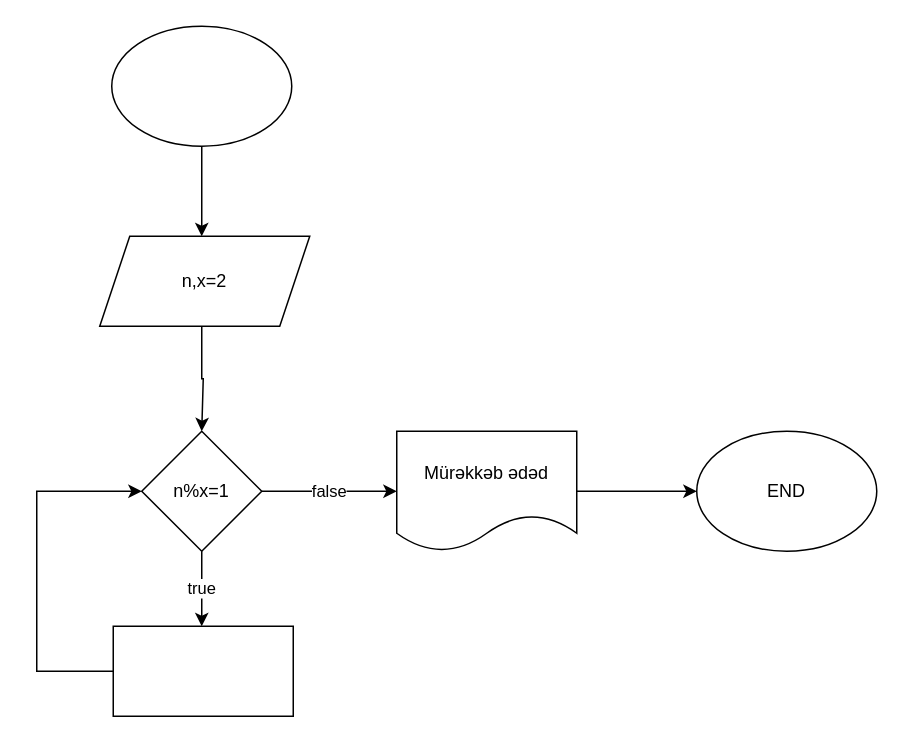
This 903x743 diagram has some shape labels left out. The shapes that lost their labels are listed below. From the top down, each one's box as (x1, y1, x2, y2) in pixels, then its label:
(110, 25, 292, 146): START
(112, 625, 293, 716): x++
